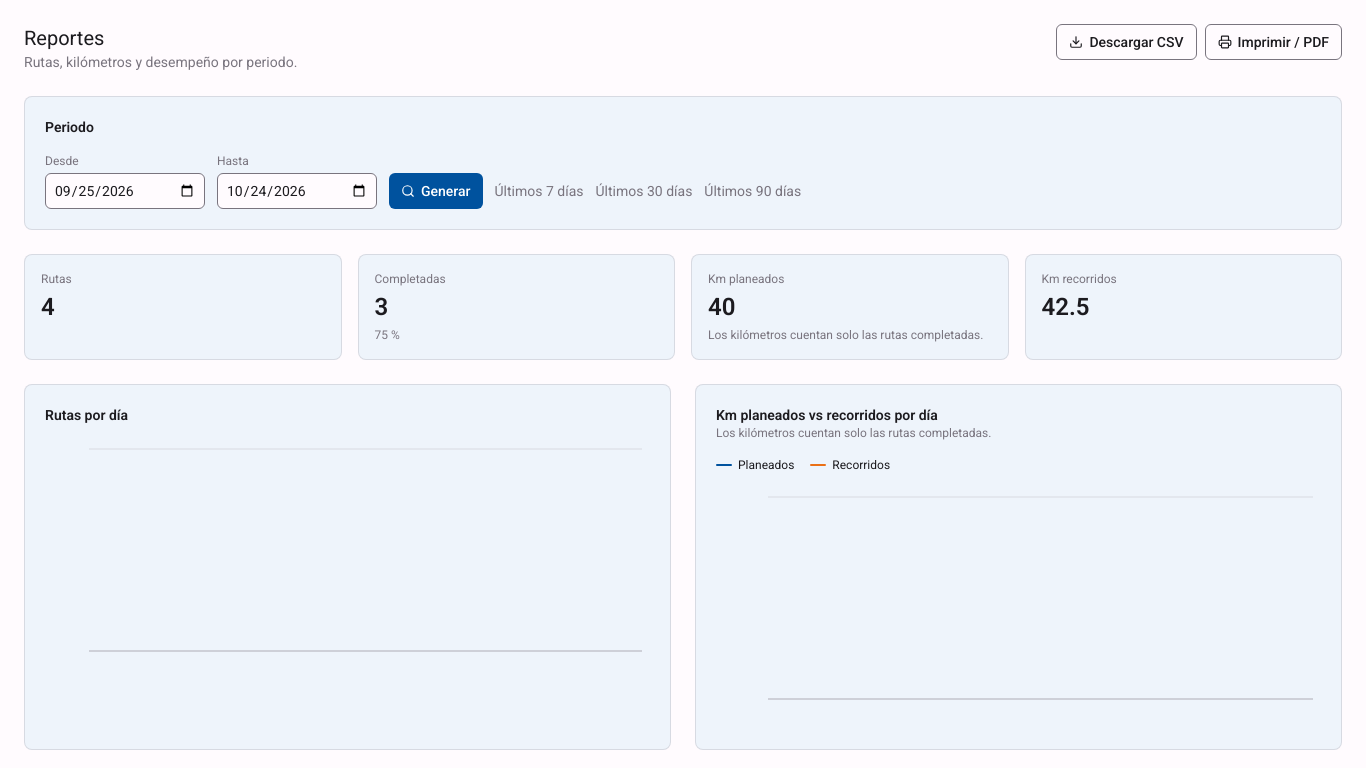
it: ReportesPage › refuses an inverted or over-long period
This screenshot has width=1366, height=768.
In the date field labelled "Hasta": {"x": 297, "y": 191} x1=217 y1=173 x2=377 y2=209, type "2000-01-01"
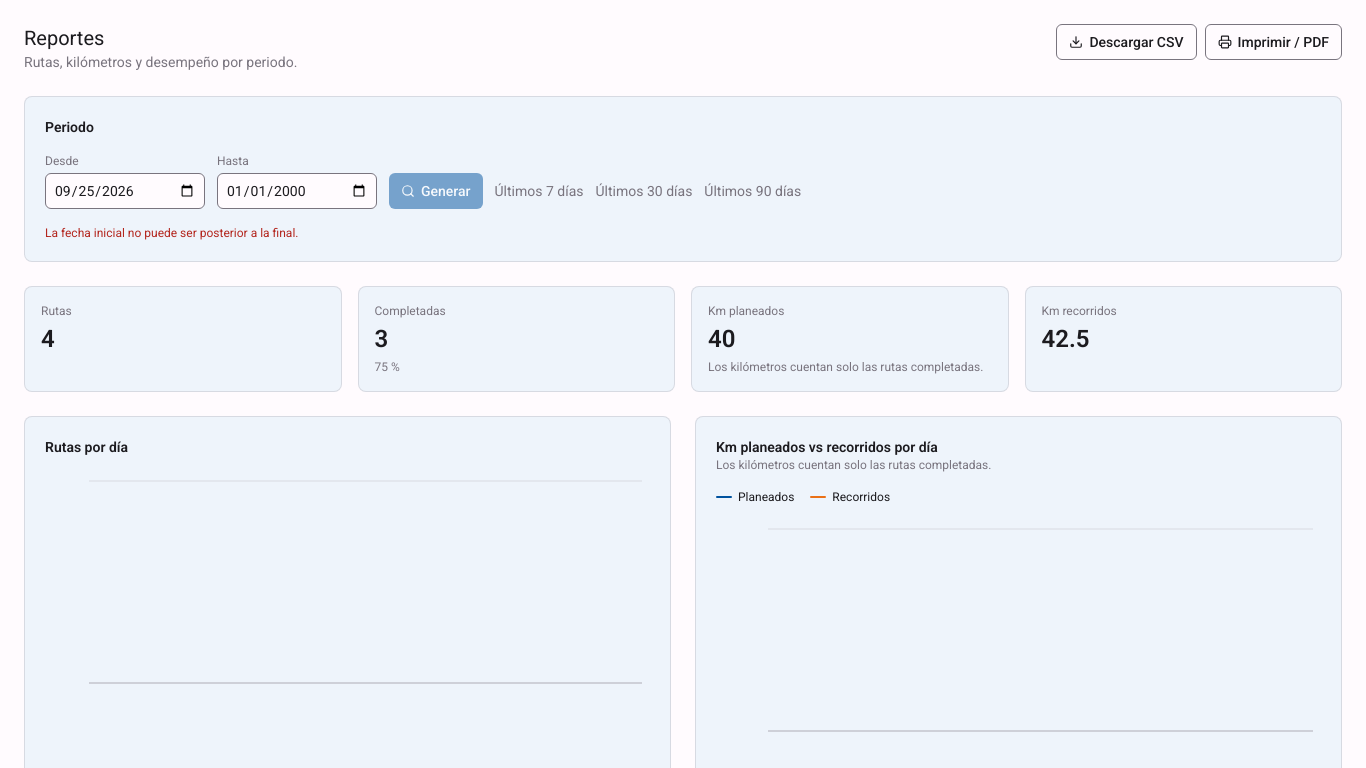
Expected: the message shows "La fecha inicial no puede ser posterior", x1=45 y1=226 x2=298 y2=240
Expected: the button "Generar" is disabled, x1=389 y1=173 x2=482 y2=209
In the date field labelled "Desde": {"x": 125, "y": 191} x1=45 y1=173 x2=205 y2=209, type "1990-01-01"
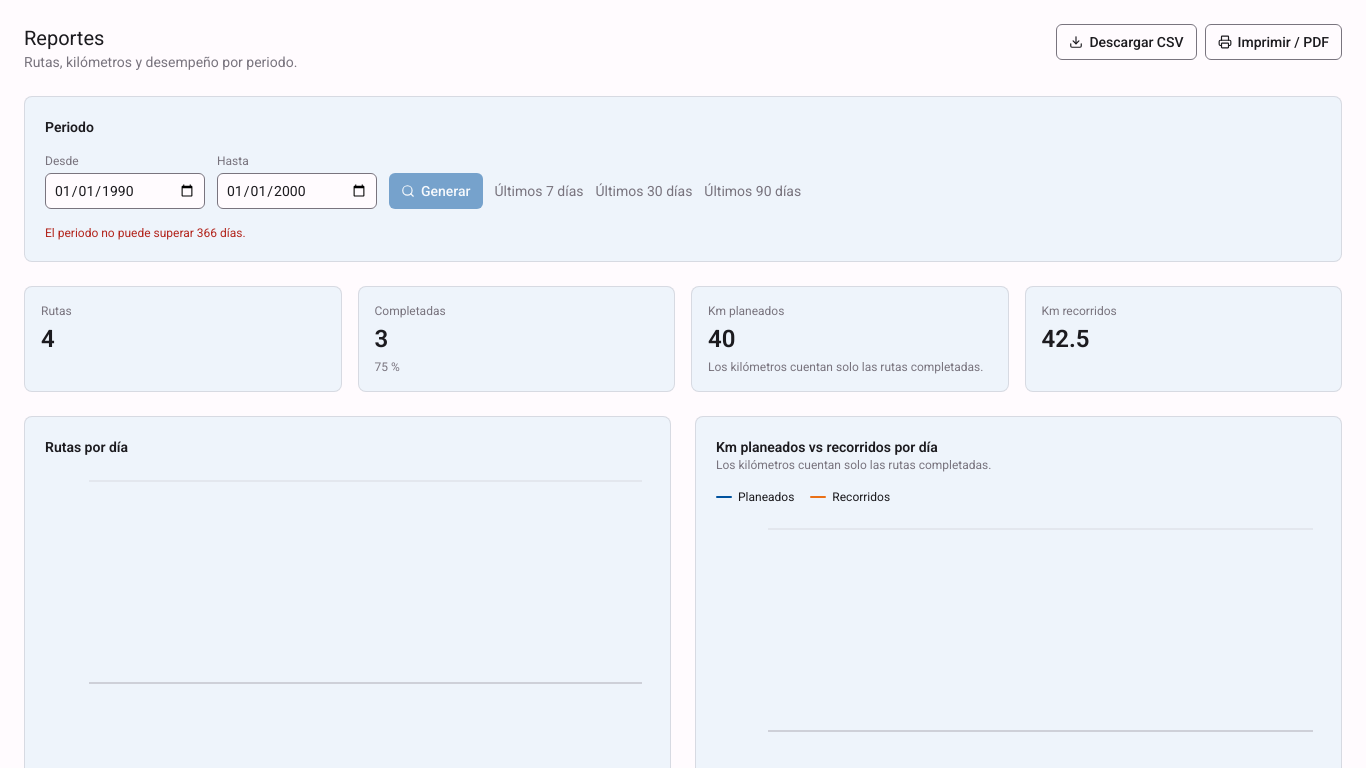
Expected: the button "Generar" is disabled, x1=389 y1=173 x2=482 y2=209
Expected: the message shows "no puede superar 366 días", x1=45 y1=226 x2=246 y2=240
